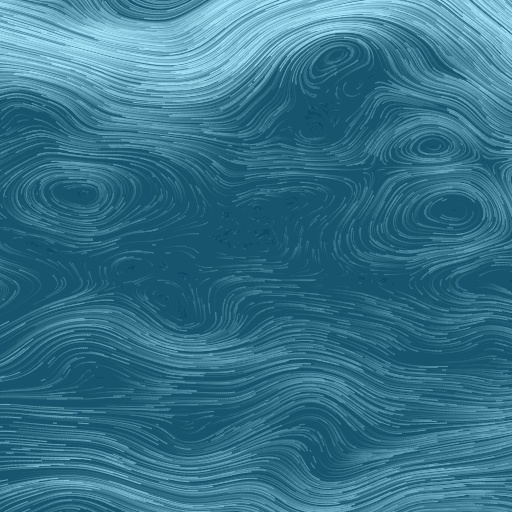eddy: (398, 178, 497, 247), (22, 167, 126, 226), (137, 273, 200, 332), (397, 119, 466, 164), (304, 41, 361, 88)
